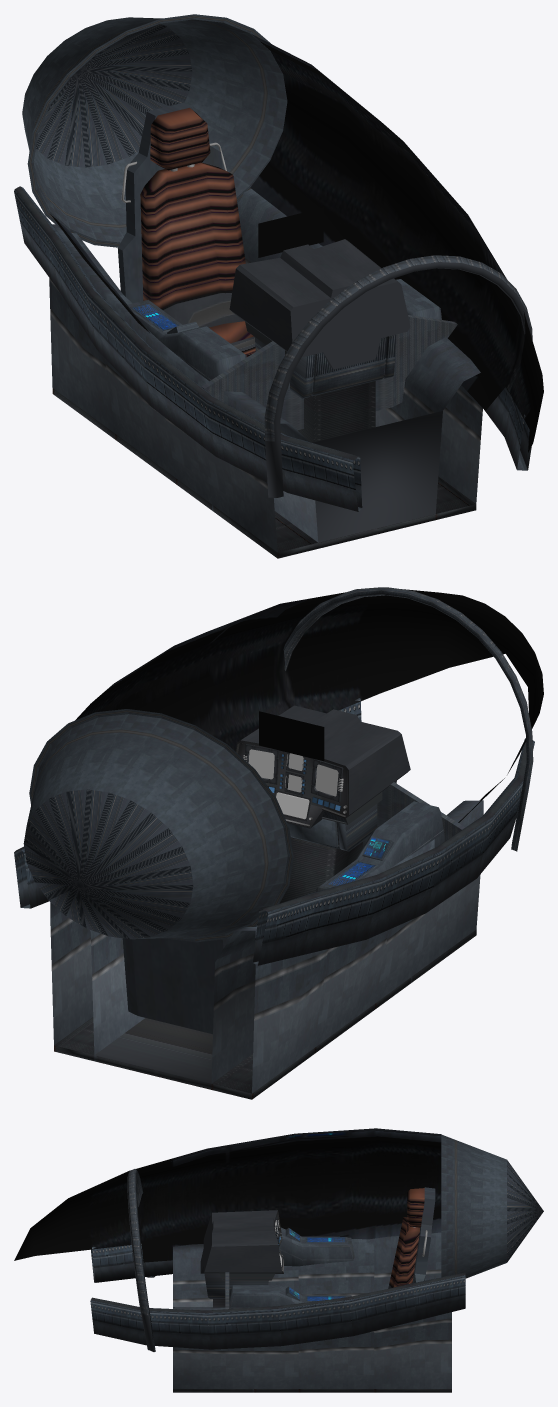
The model's file is EaglePit.fbx.
3 views of the same model, one above another, from view 1: azimuth 30°, elevation 25°; view 2: azimuth 150°, elevation 25°; view 3: azimuth 270°, elevation 25° (orthographic). The views are drawn at different scales.
Parts seen in each view (by area): view 1: EaglePit; view 2: EaglePit; view 3: EaglePit.
Part boxes in pixels (x1=…): EaglePit: x1=14, y1=14, x2=543, y2=558; EaglePit: x1=14, y1=587, x2=543, y2=1099; EaglePit: x1=14, y1=1128, x2=543, y2=1392.
Bounding box in the file's own units: 415 × 475 × 1024.
